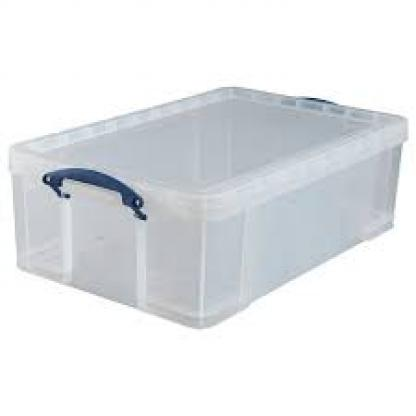plastic_box: (4, 52, 406, 340)
